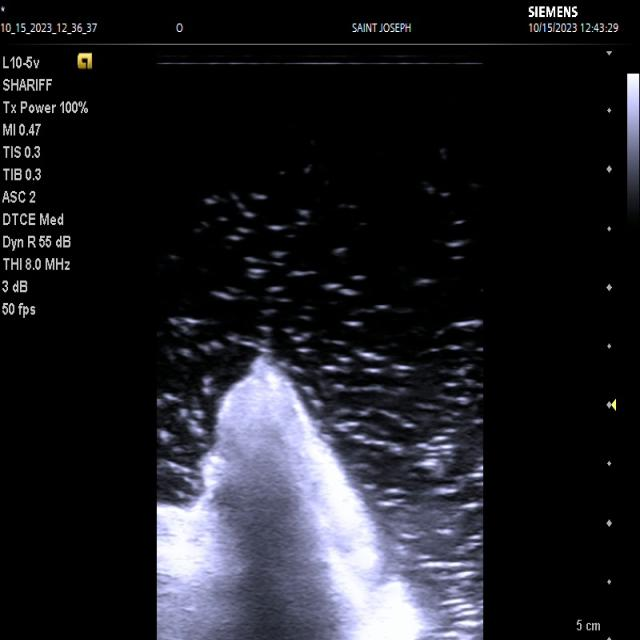tissue: (155, 356, 420, 640)
